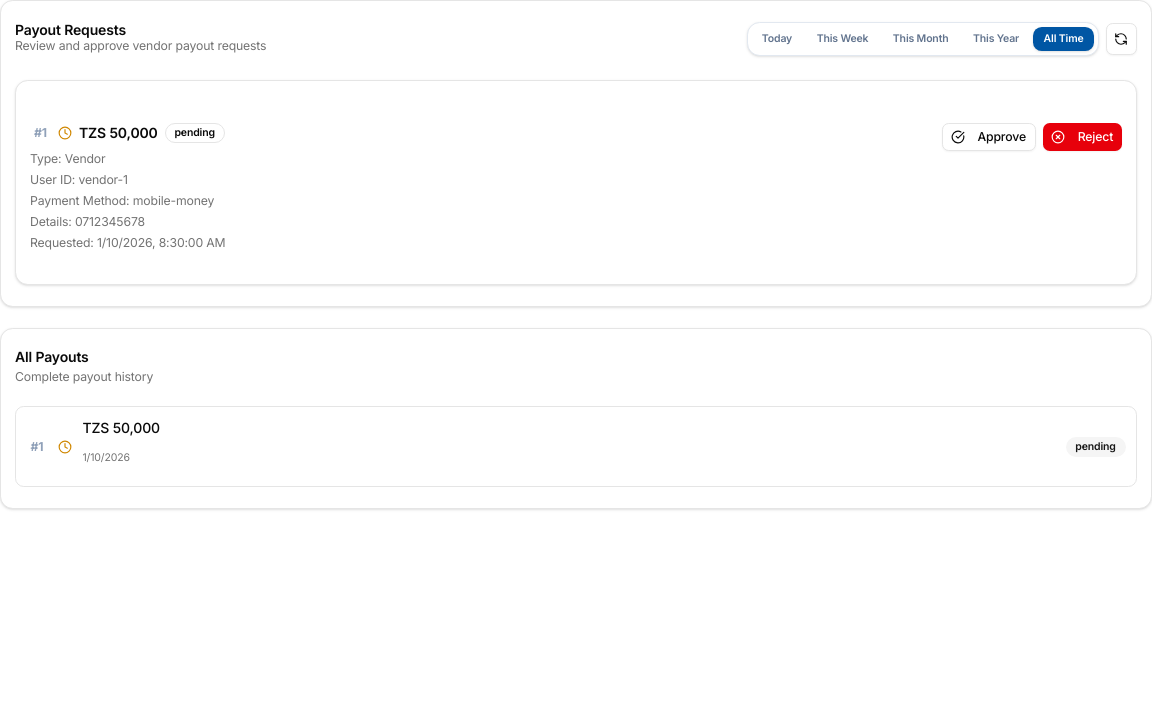
Test: PayoutApprovalTab › rejects a pending payout: posts to the reject endpoint, toasts success, and moves it out of the pending list
This screenshot has width=1152, height=720.
What coordinates should you click on to do the following:
click the button "Reject"
I would click on:
 (1082, 137)
Its box is [1043, 123, 1122, 151].
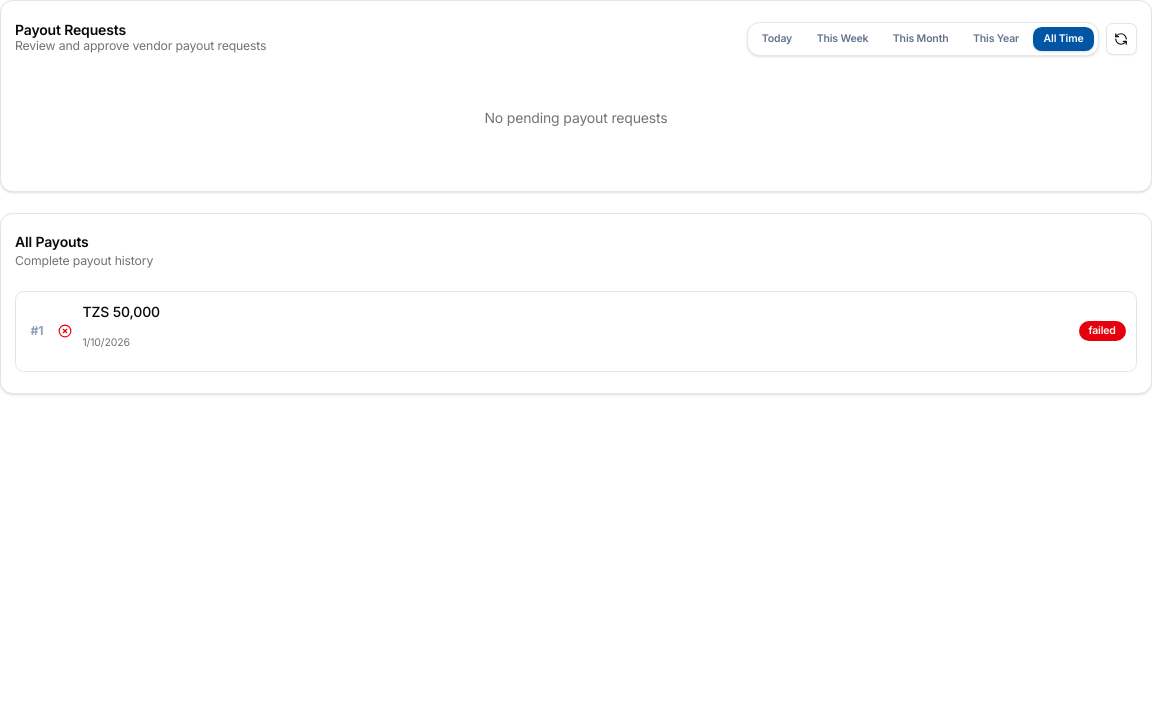
expect the text "No pending payout requests" is shown: met, box [484, 109, 668, 126]
